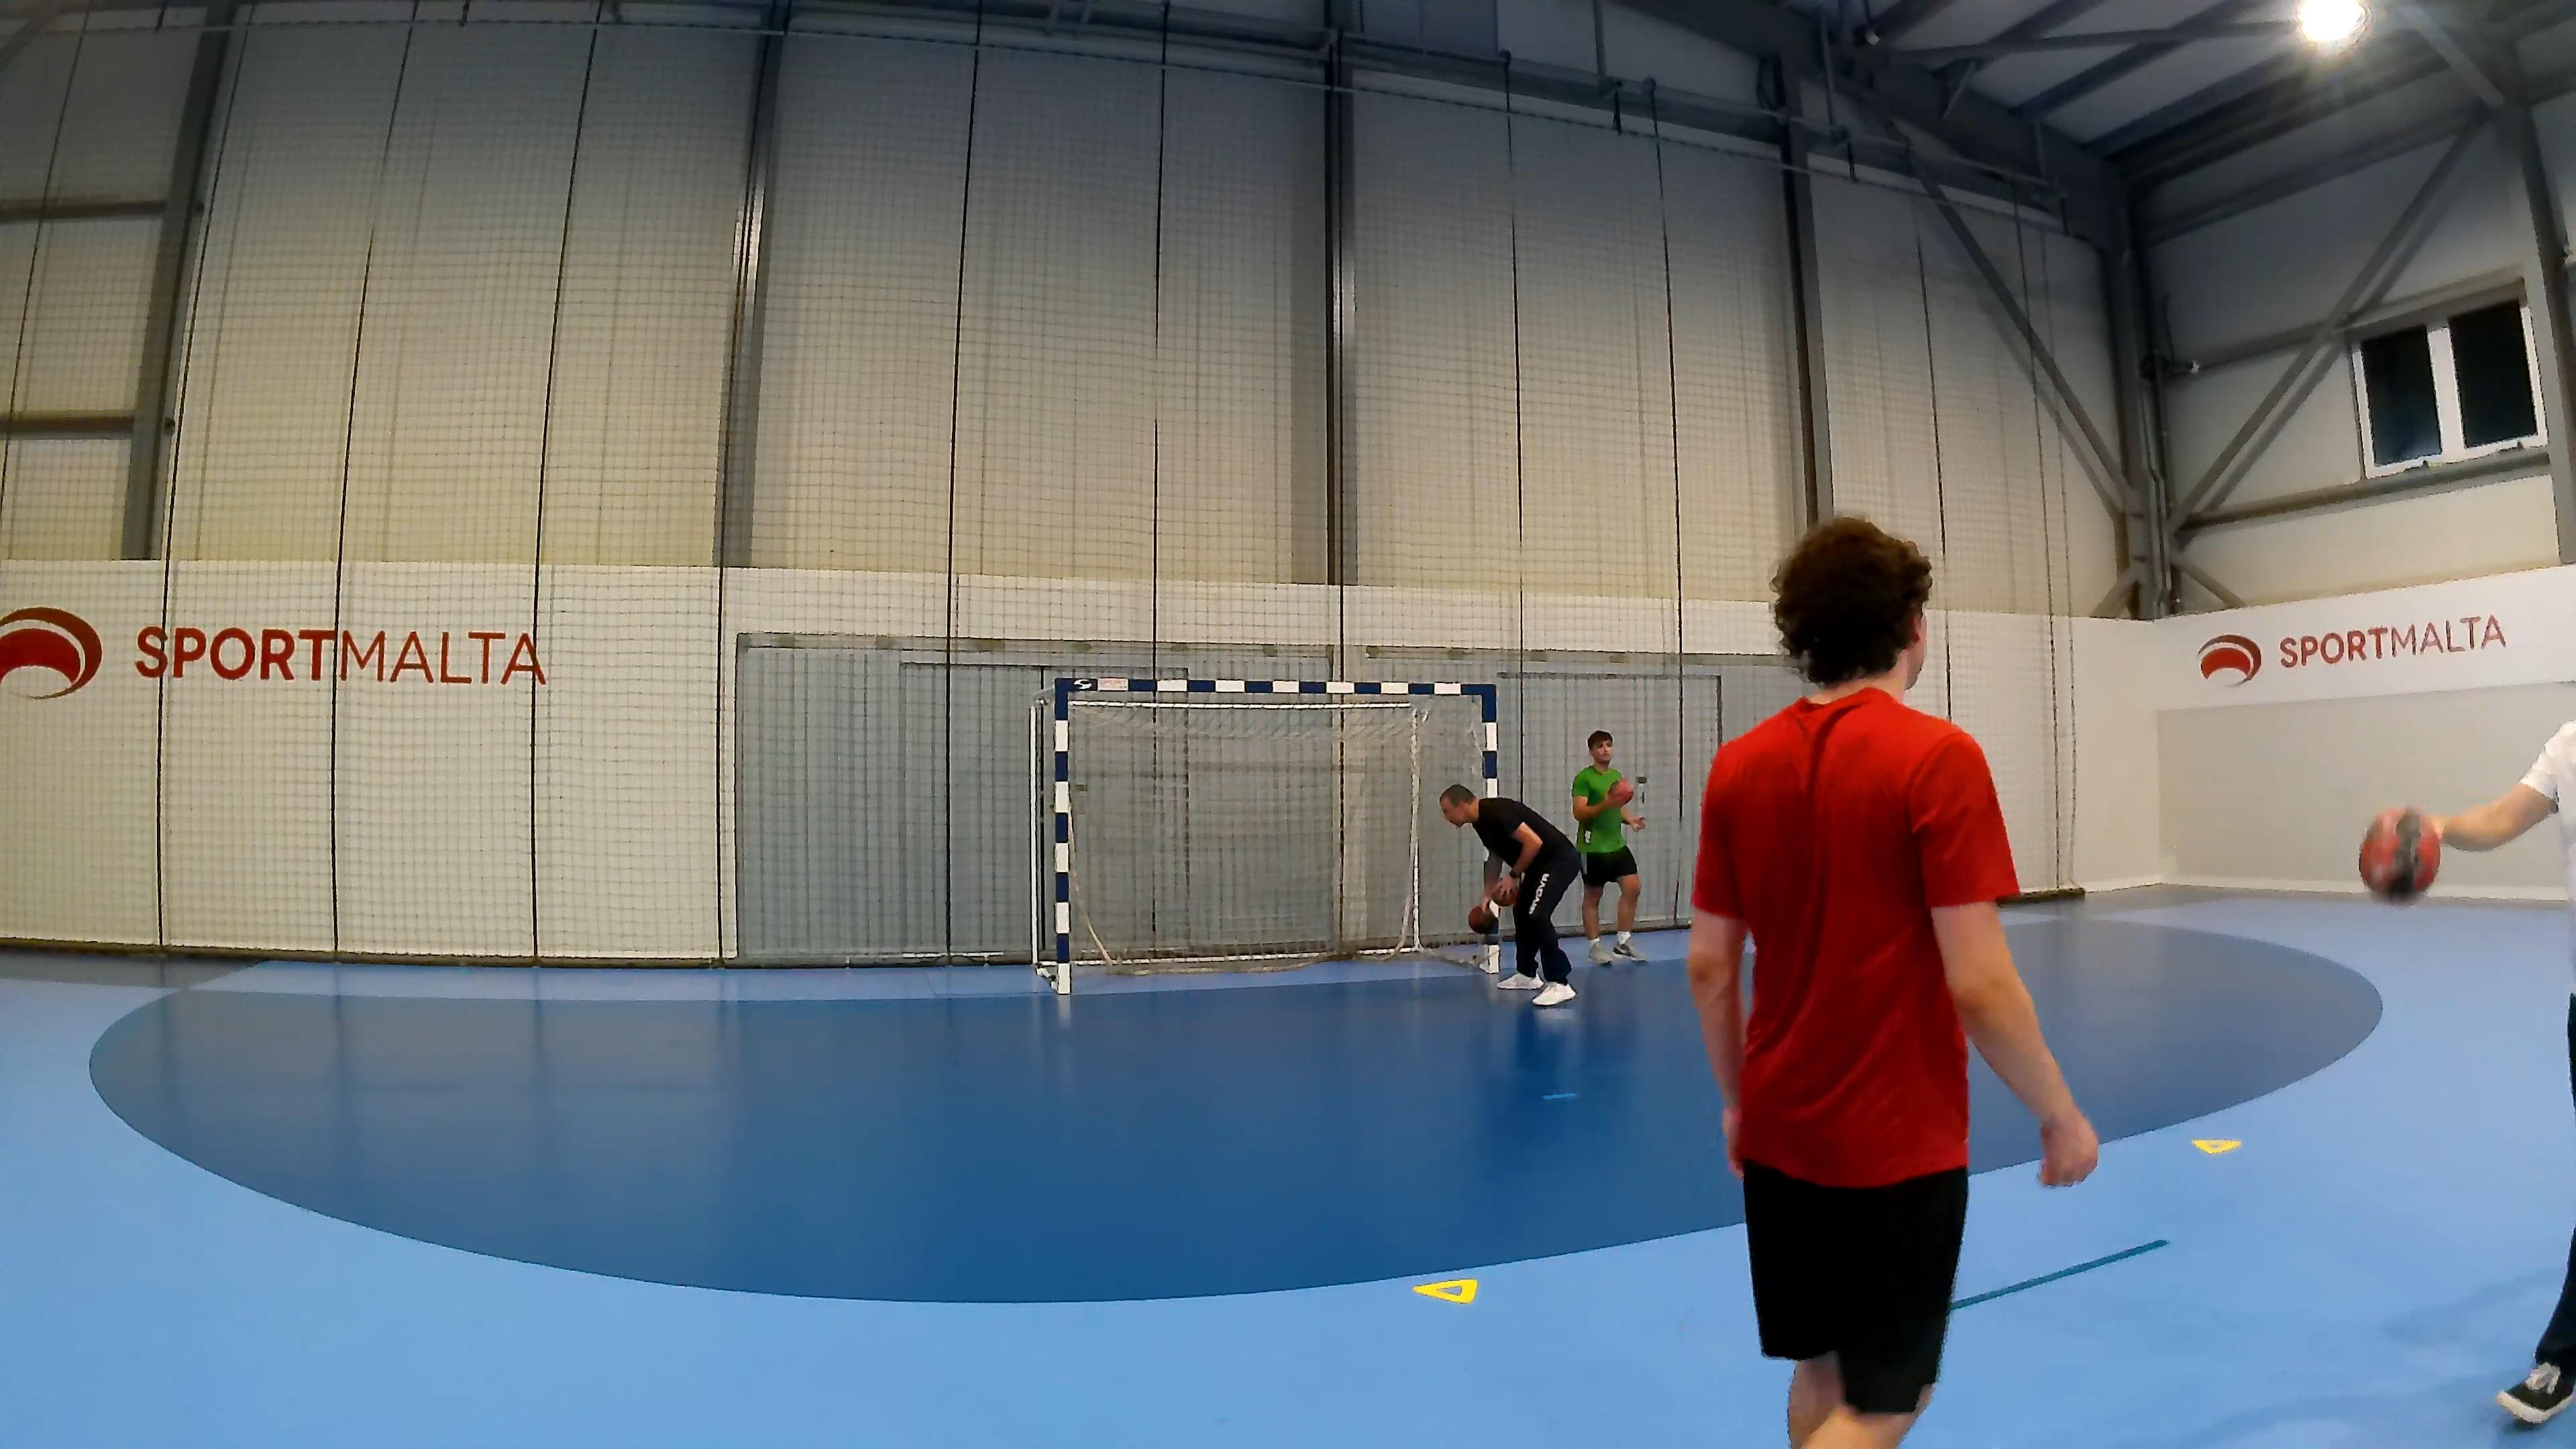handball: (2357, 805, 2442, 899), (1465, 897, 1502, 938), (1608, 771, 1642, 803)
